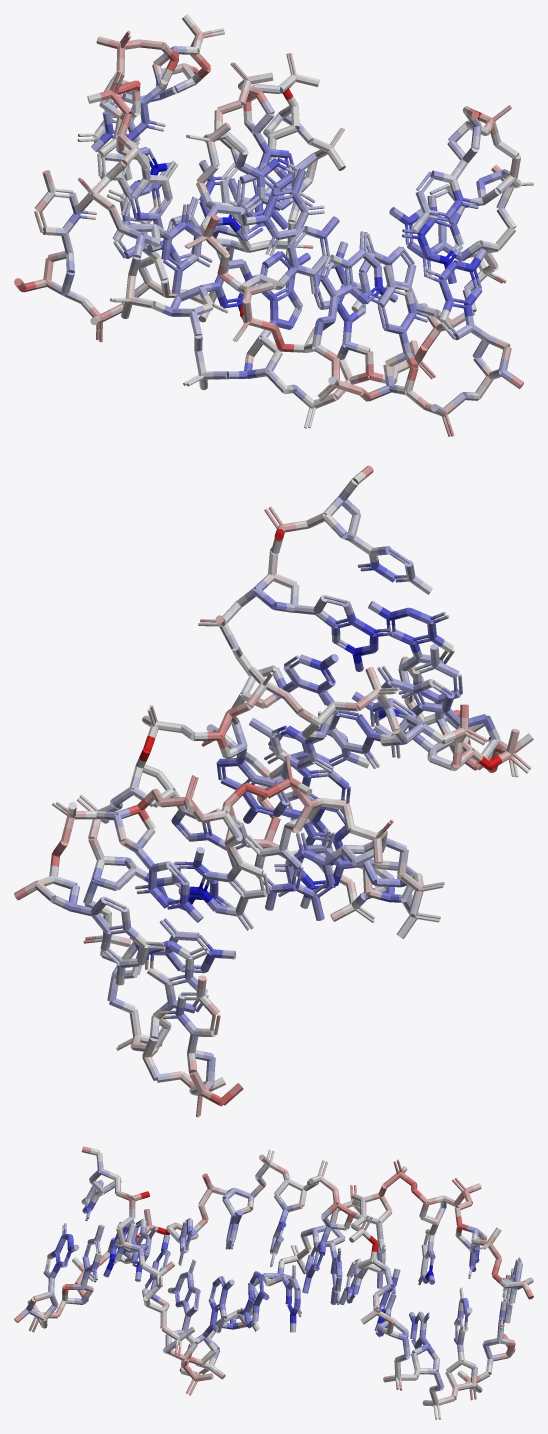
Rendered from 1bna__sticks__b-factor.glb.
The picture shows the model from 3 angles, top to bottom: view 1: azimuth 30°, elevation 25°; view 2: azimuth 150°, elevation 25°; view 3: azimuth 270°, elevation 25°; orthographic projection. The views are drawn at different scales.
Parts seen in each view (by area): view 1: Renderer Node; view 2: Renderer Node; view 3: Renderer Node.
Part boxes in pixels (x1=…): Renderer Node: x1=14, y1=14, x2=533, y2=436; Renderer Node: x1=14, y1=465, x2=533, y2=1117; Renderer Node: x1=14, y1=1146, x2=533, y2=1419.
Size of the model in its own units: 22.6 by 26.43 by 42.89.
